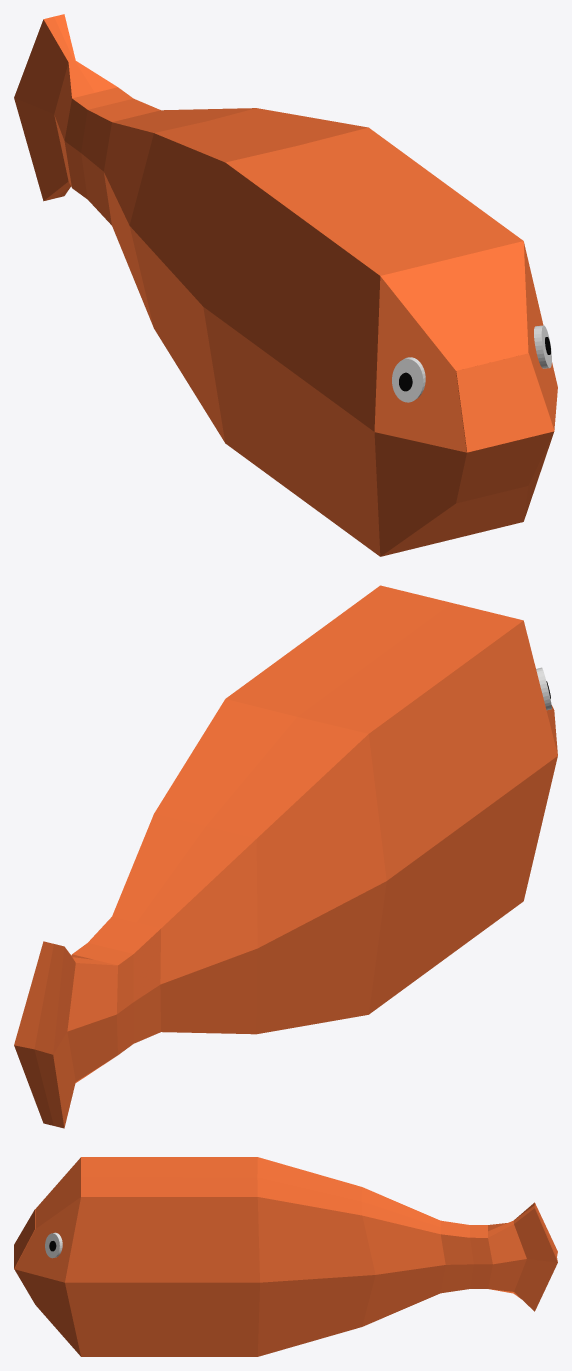
The model's file is balık[2].fbx.
The picture shows the model from 3 angles, top to bottom: view 1: azimuth 30°, elevation 25°; view 2: azimuth 150°, elevation 25°; view 3: azimuth 270°, elevation 25°; orthographic projection. The views are drawn at different scales.
Parts seen in each view (by area): view 1: Cube, Cylinder.001; view 2: Cube; view 3: Cube, Cylinder.002.
Part boxes in pixels (bbox=[...]): Cube: bbox=[14, 14, 557, 556]; Cylinder.001: bbox=[392, 357, 425, 402]; Cube: bbox=[14, 585, 557, 1128]; Cube: bbox=[14, 1157, 557, 1356]; Cylinder.002: bbox=[45, 1232, 62, 1258].
Size of the model in its own units: 137 by 201 by 619.
